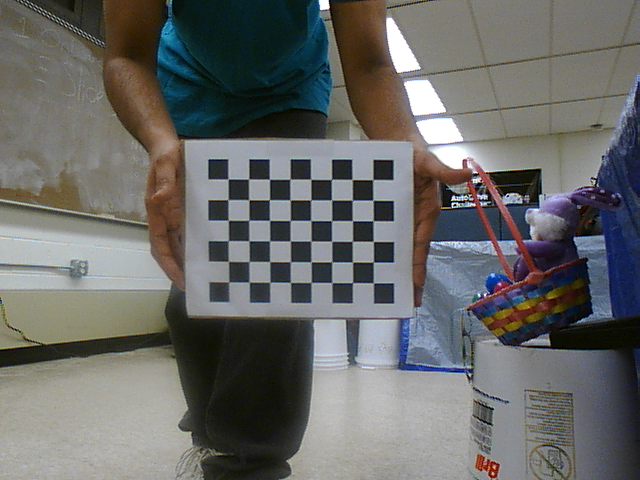bunny: (459, 156, 605, 351)
